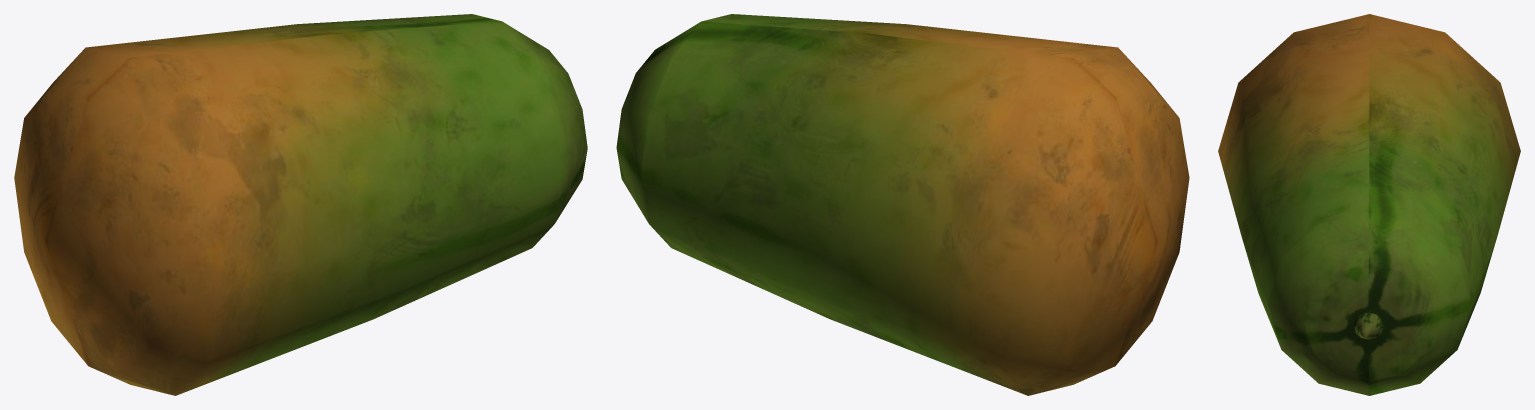
Rendered from papaya.fbx.
The picture shows the model from 3 angles, left to right: view 1: azimuth 30°, elevation 25°; view 2: azimuth 150°, elevation 25°; view 3: azimuth 270°, elevation 25°; orthographic projection. The views are drawn at different scales.
Visible parts, largest first — view 1: Papayaa; view 2: Papayaa; view 3: Papayaa.
Part boxes in pixels (bbox=[...]): Papayaa: bbox=[14, 14, 587, 395]; Papayaa: bbox=[616, 14, 1189, 395]; Papayaa: bbox=[1218, 14, 1520, 395].
Size of the model in its own units: 25.03 by 14.77 by 14.77.
